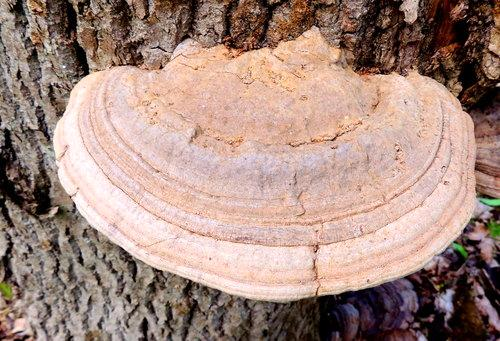Ganoderma - Fruit Body: (52, 39, 479, 300)
